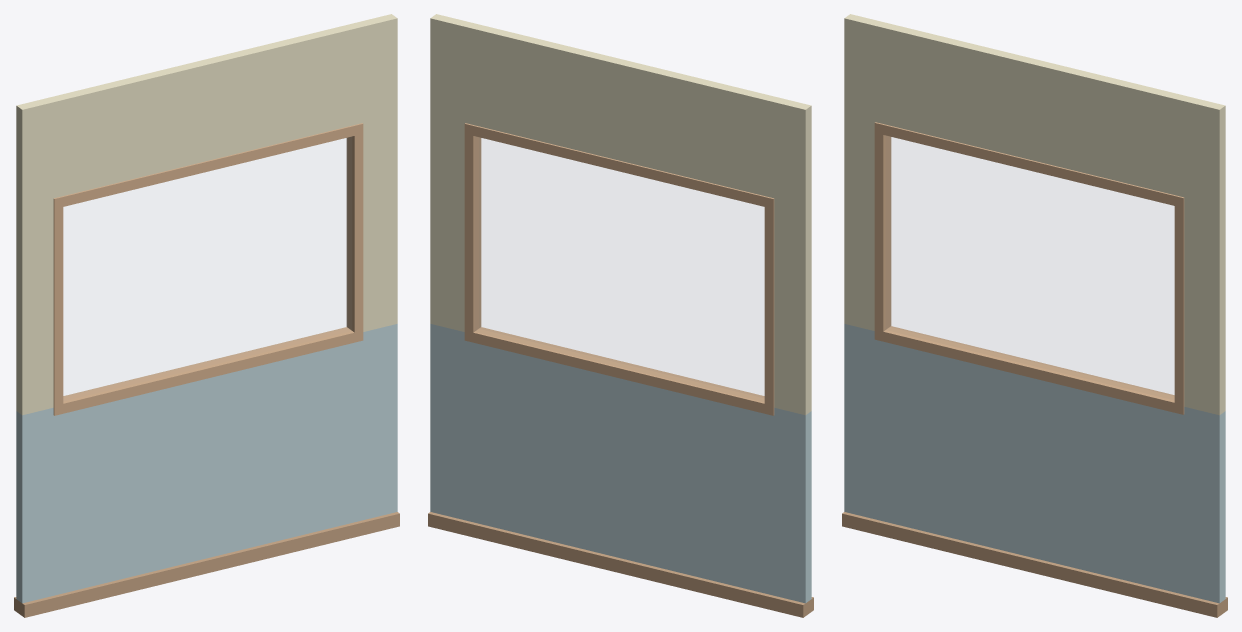
File: wall with a window.fbx
3 renders of one model, left to right at view 1: azimuth 30°, elevation 25°; view 2: azimuth 150°, elevation 25°; view 3: azimuth 330°, elevation 25°, orthographic.
Visible parts, largest first — view 1: Cube_14; view 2: Cube_14; view 3: Cube_14.
Boxes of the visible parts, left/top/right/bottom form: Cube_14: left=14, top=14, right=399, bottom=617; Cube_14: left=428, top=14, right=813, bottom=617; Cube_14: left=842, top=14, right=1227, bottom=617.
Bounding box in the file's own units: 69.25 × 89.3 × 3.39.
